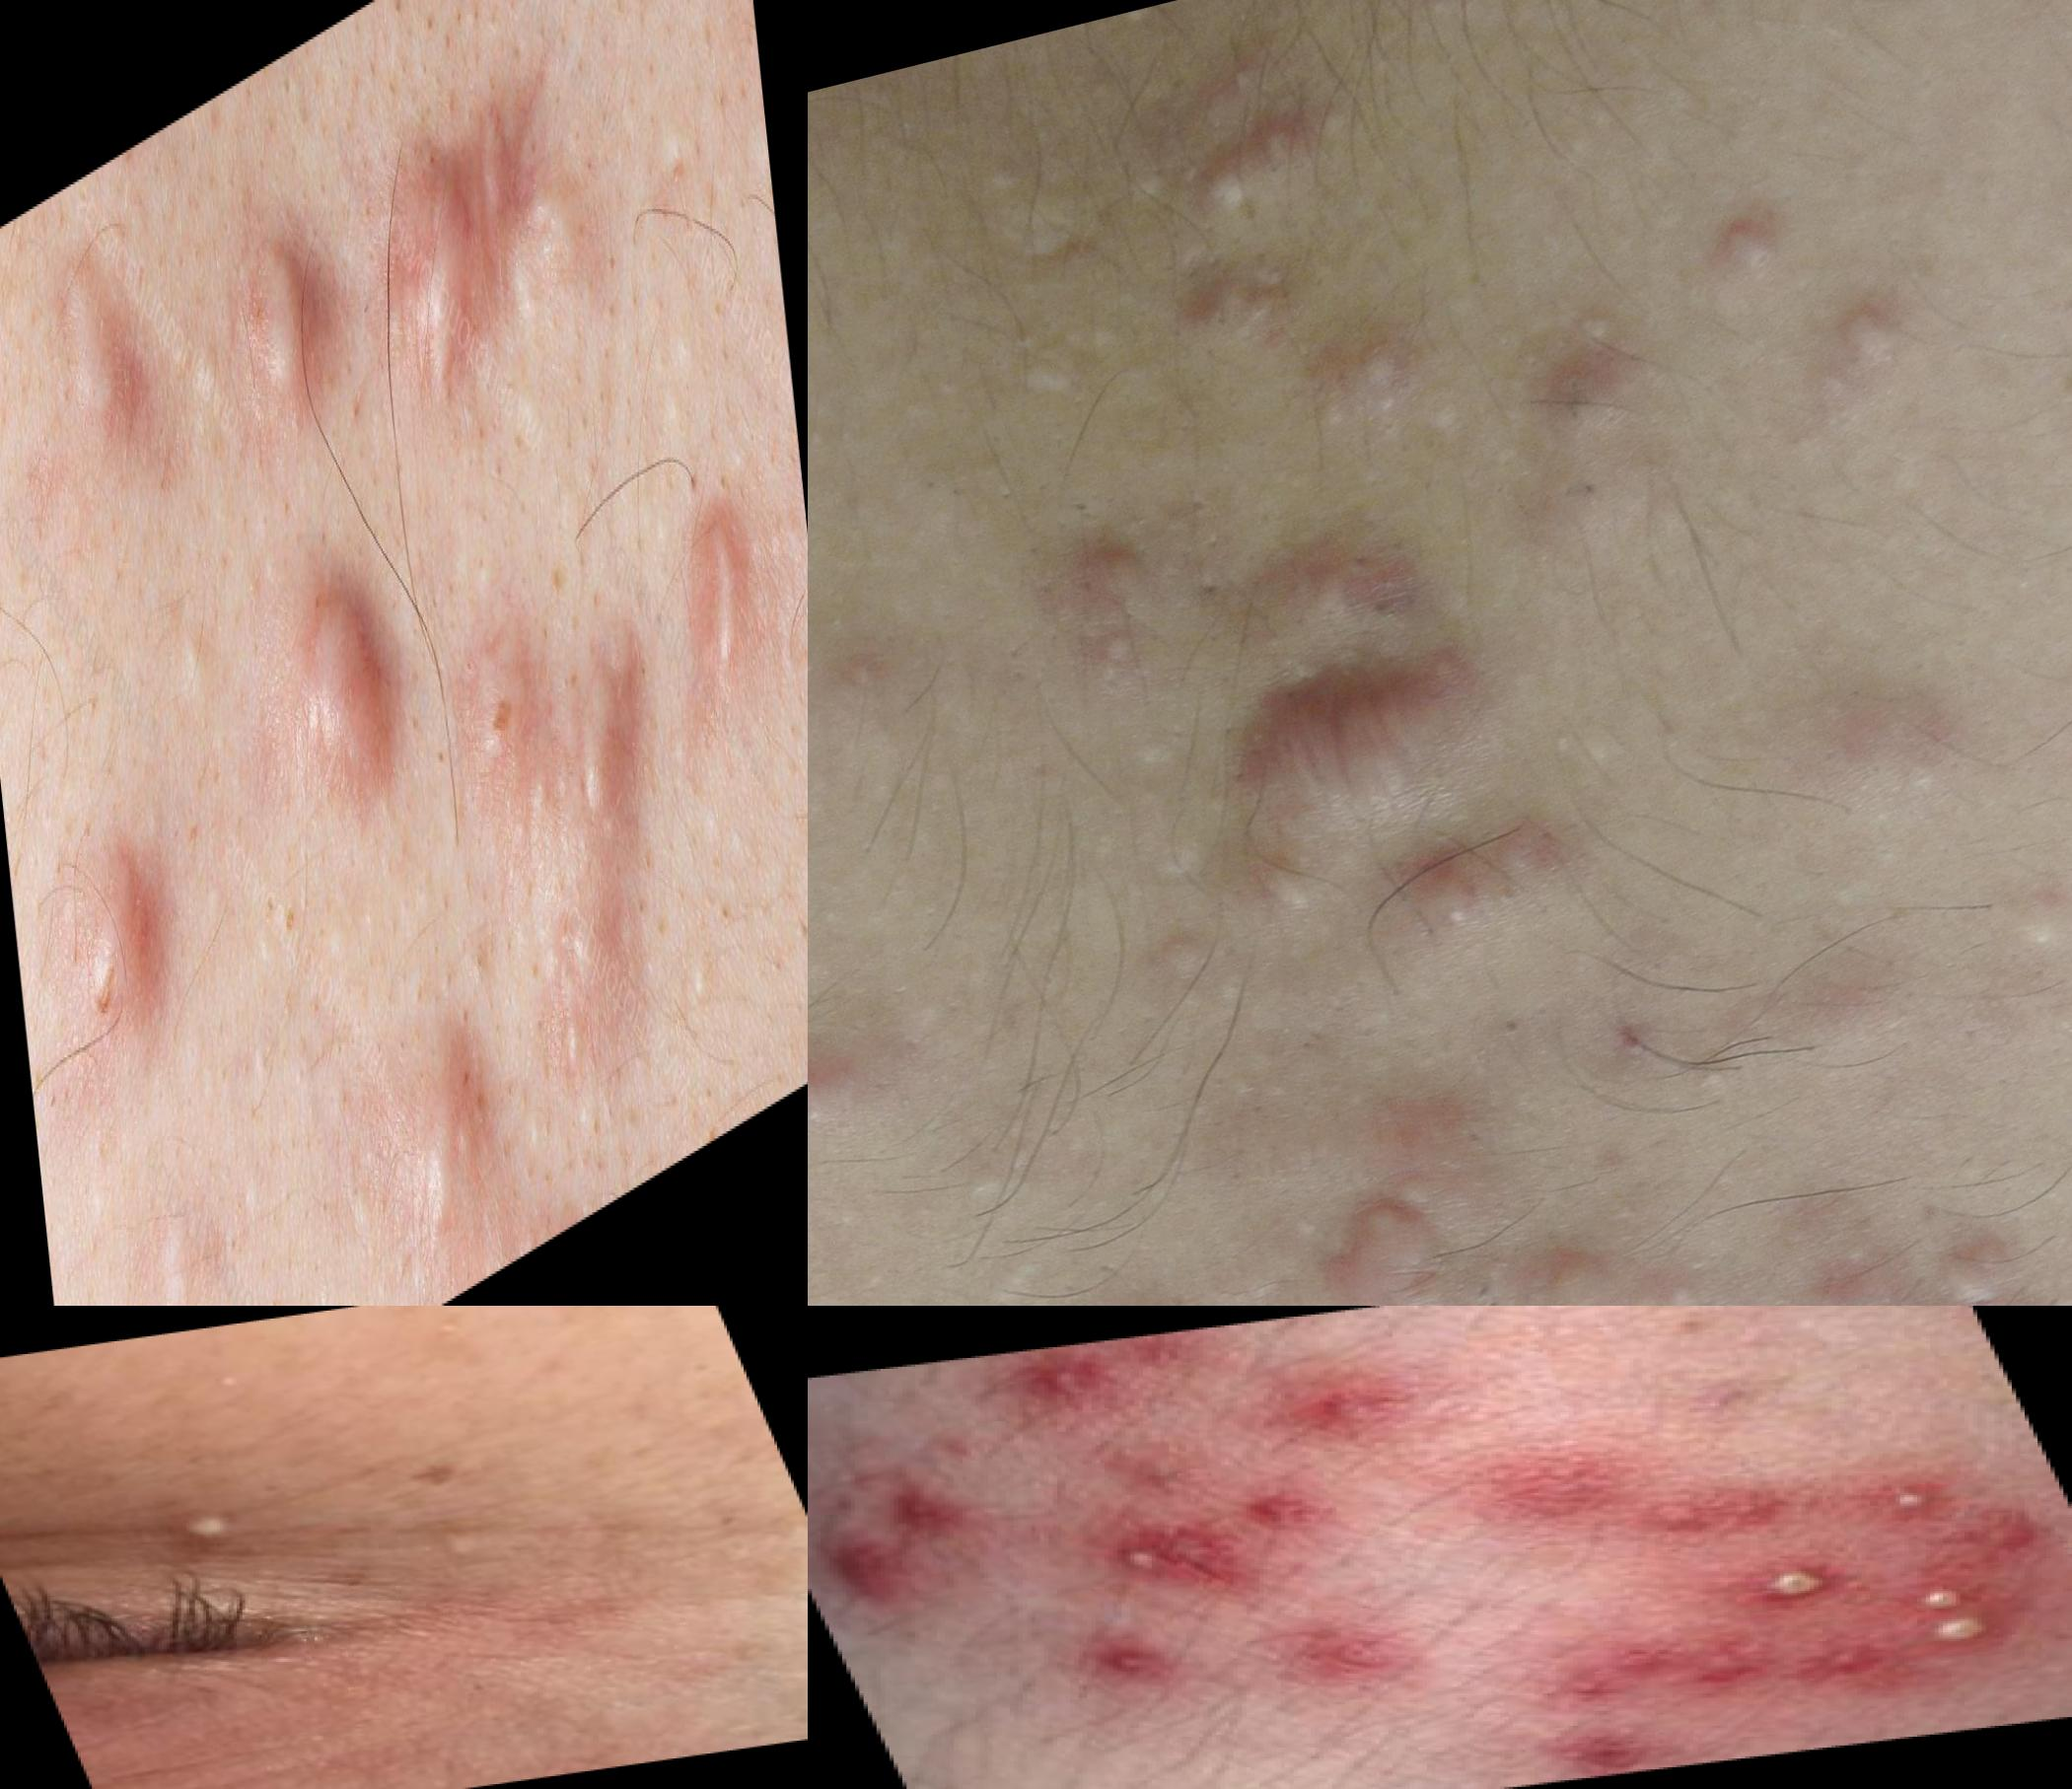folliculitis: (1071, 1516, 1223, 1602), (1894, 1574, 2024, 1657), (1734, 1553, 1862, 1616), (1873, 1481, 1950, 1521)
keloid: (356, 12, 578, 479), (236, 502, 449, 957), (1198, 631, 1517, 874), (555, 520, 691, 888), (1158, 71, 1404, 243), (67, 777, 181, 1098), (32, 194, 153, 479), (685, 432, 786, 777), (233, 148, 333, 471), (1447, 1207, 1748, 1306), (1284, 1167, 1487, 1306), (809, 1047, 870, 1167)
milium: (358, 1495, 606, 1579), (118, 1481, 300, 1577), (167, 1340, 301, 1405), (414, 1306, 477, 1352)
papular: (1348, 791, 1607, 1005), (1760, 1165, 2072, 1306), (1505, 312, 1688, 501), (809, 1472, 1020, 1620), (1156, 252, 1306, 390), (1973, 860, 2072, 1001), (1258, 1620, 1431, 1697), (1286, 1382, 1432, 1447), (1006, 1355, 1140, 1421), (1066, 1634, 1207, 1696)
purulent: (1806, 278, 1933, 398), (1707, 190, 1811, 305), (1390, 2, 1521, 26)
